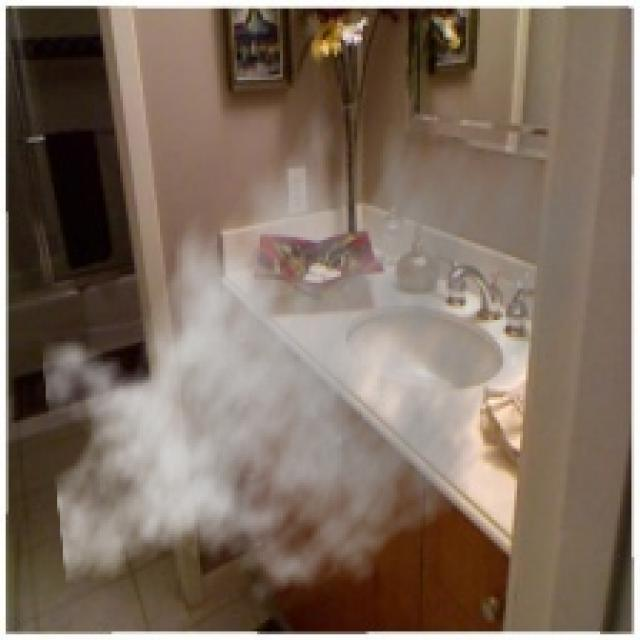Smoke: (39, 69, 592, 620)
